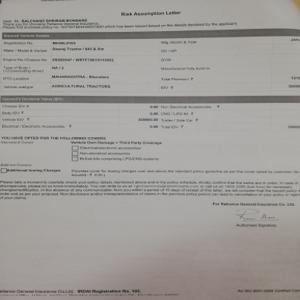table: (1, 96, 300, 163), (1, 31, 300, 95)
text: (1, 176, 300, 201)
